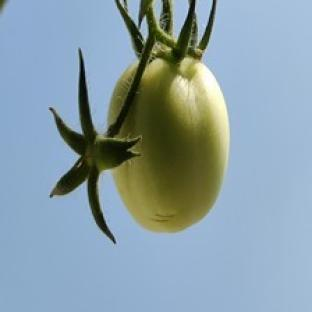Tomato: (113, 58, 229, 232)
